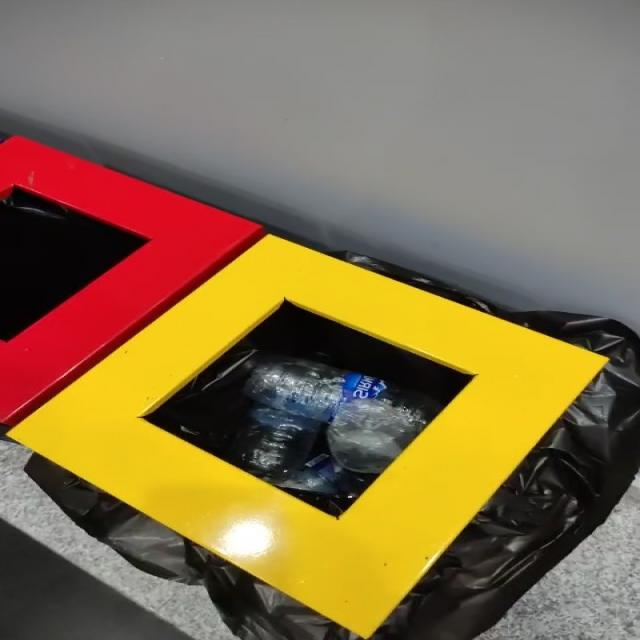plastic: (228, 361, 369, 482)
